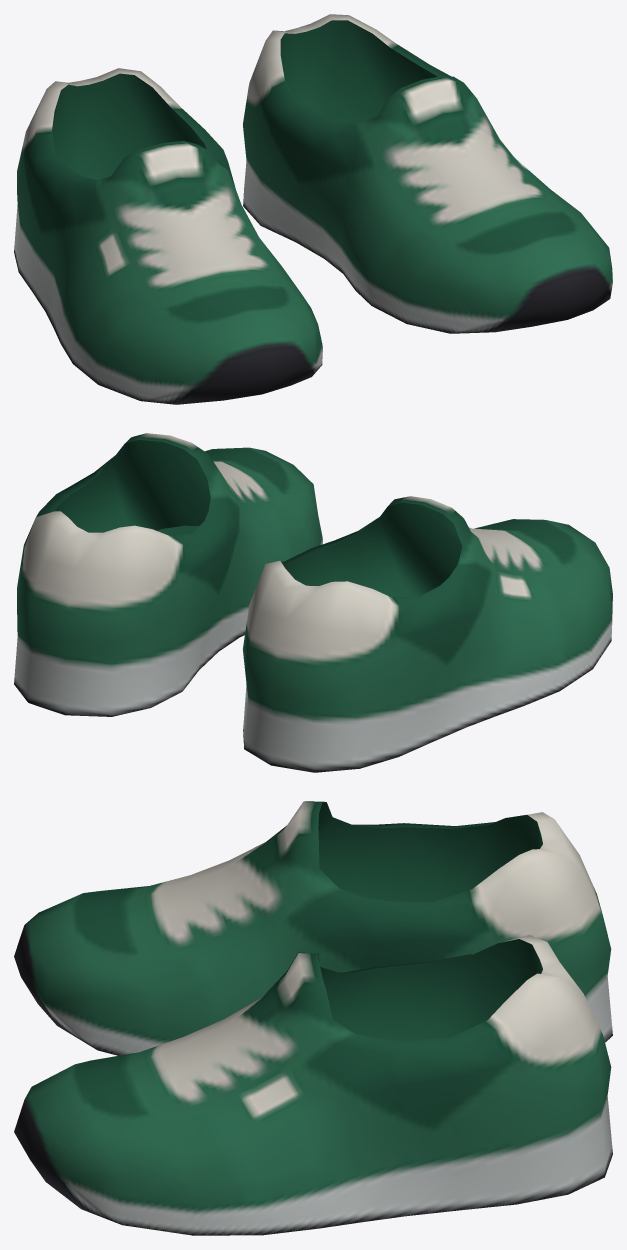
The model's file is ShoesLowcutSuede0.glb.
3 renders of one model, top to bottom at view 1: azimuth 30°, elevation 25°; view 2: azimuth 150°, elevation 25°; view 3: azimuth 270°, elevation 25°, orthographic. The views are drawn at different scales.
Visible parts, largest first — view 1: Body__mShoes; view 2: Body__mShoes; view 3: Body__mShoes.
Boxes of the visible parts, x1,y1,x2,y2 form: Body__mShoes: (14, 14, 612, 404); Body__mShoes: (14, 433, 612, 772); Body__mShoes: (14, 801, 612, 1235).
Bounding box in the file's own units: 3.53 × 1.2 × 3.13.
Materials: 1 (1 with a texture image).
